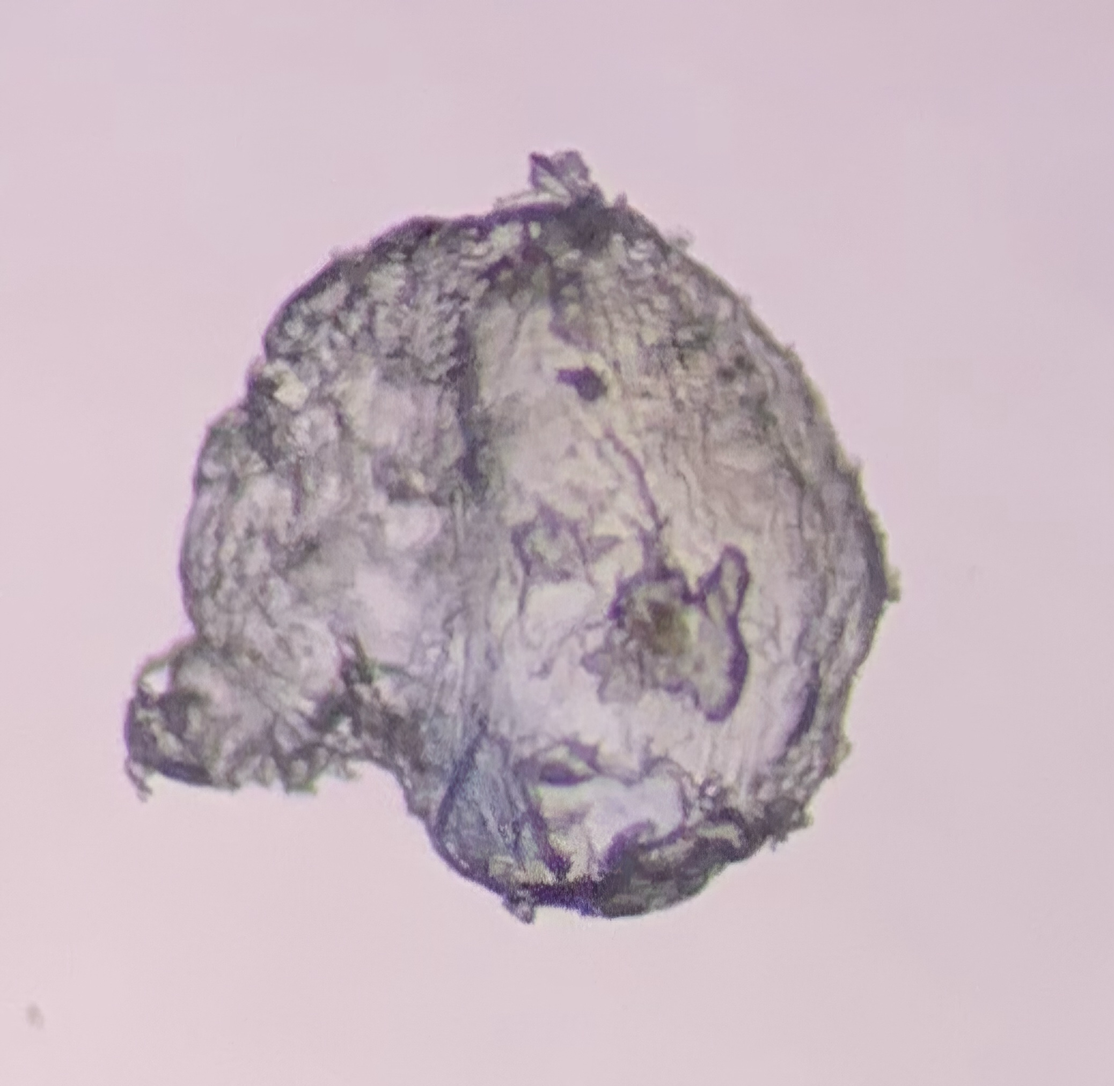microplastic: (120, 146, 903, 927)
